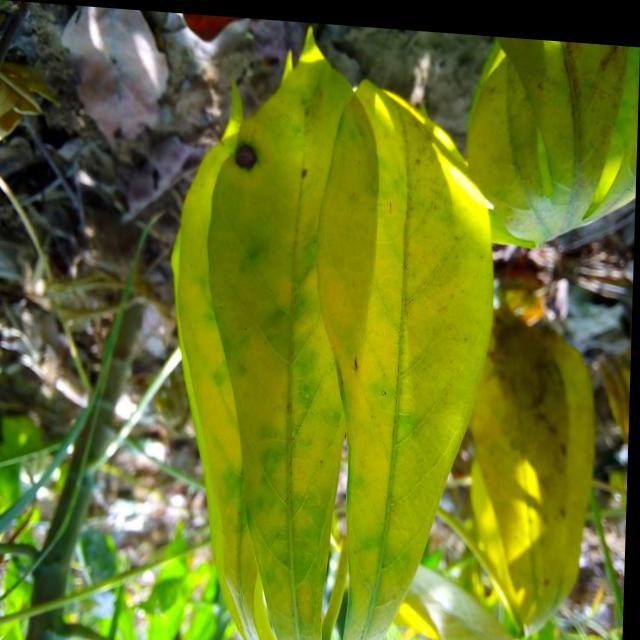Mosaico: (206, 51, 481, 640), (446, 291, 601, 640), (414, 39, 624, 258)
